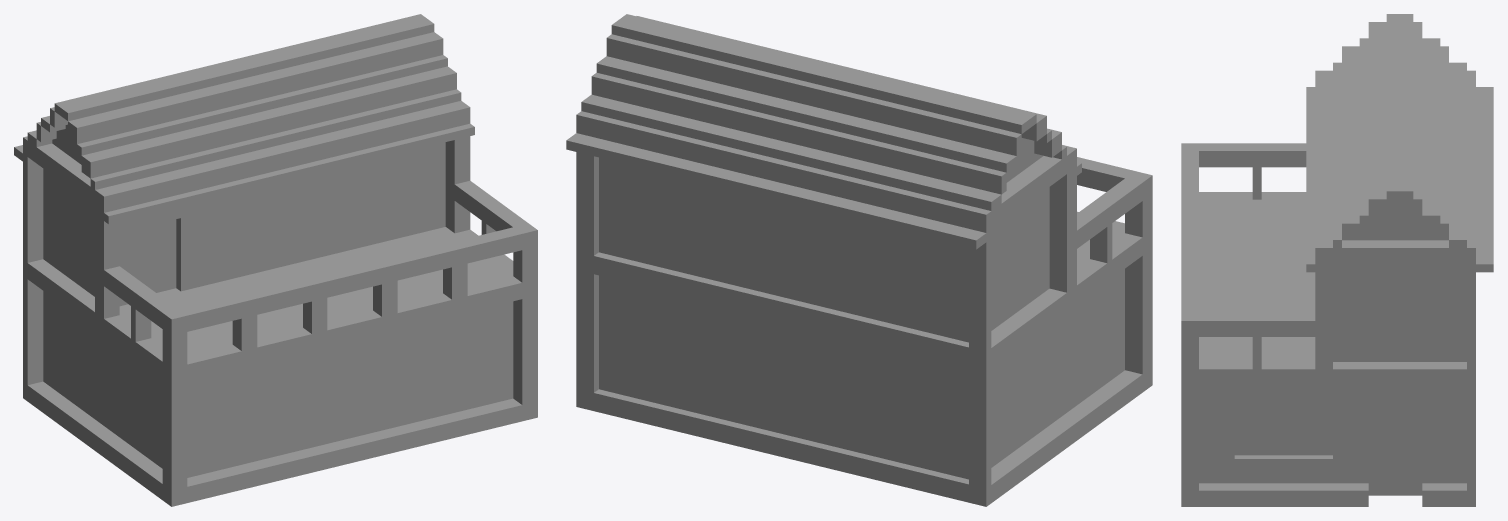
The model's file is church6-1.obj.
The picture shows the model from 3 angles, left to right: view 1: azimuth 30°, elevation 25°; view 2: azimuth 150°, elevation 25°; view 3: azimuth 270°, elevation 25°; orthographic projection. The views are drawn at different scales.
Parts seen in each view (by area): view 1: church6-1; view 2: church6-1; view 3: church6-1.
Part boxes in pixels (box(x1,y1,x2,y2)): church6-1: box(14, 14, 537, 506); church6-1: box(566, 14, 1152, 506); church6-1: box(1181, 14, 1493, 506).
Size of the model in its own units: 47 by 39 by 35.
1 material, 1 textured.
